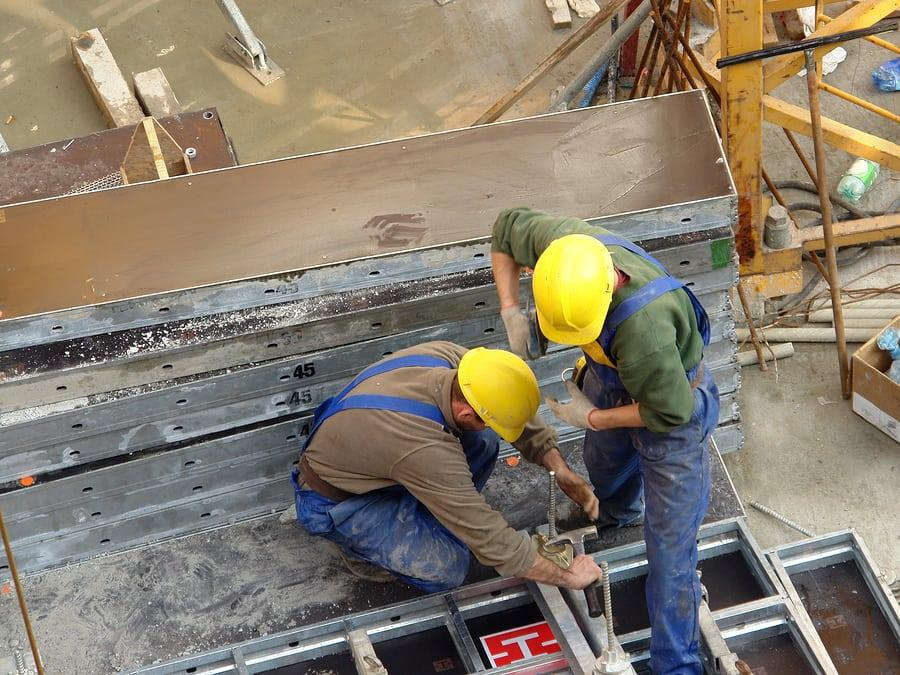helmet: (534, 234, 618, 347), (456, 340, 544, 447)
